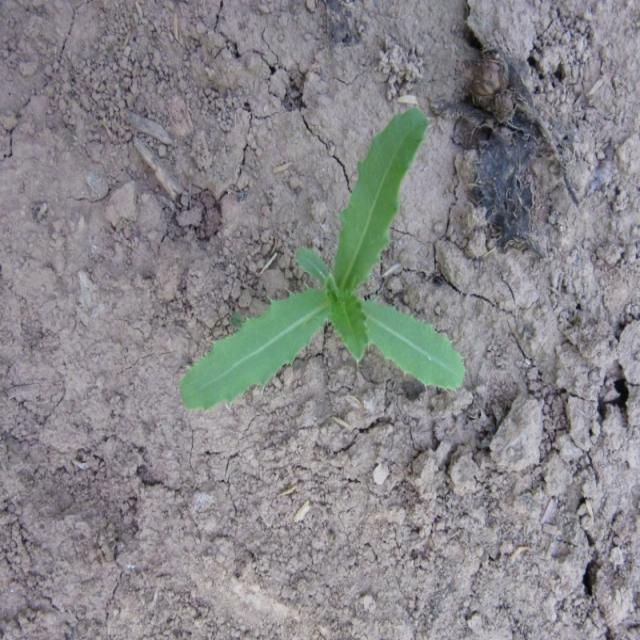field_thistle: (159, 60, 471, 449)
